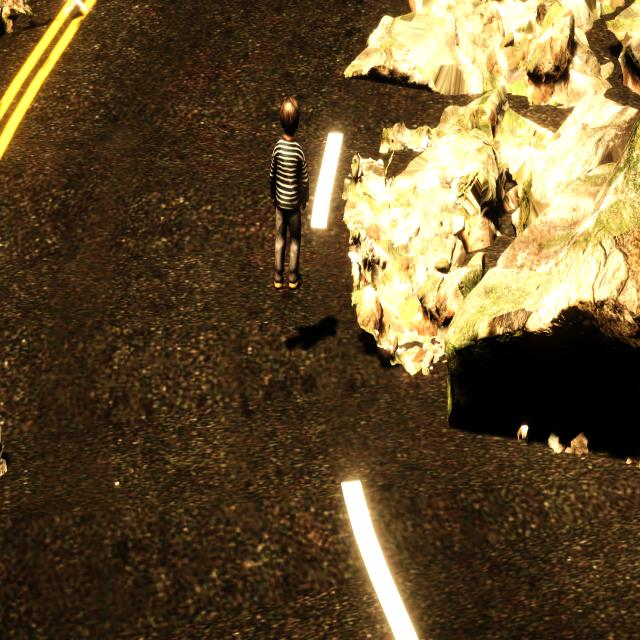Human: (262, 84, 315, 300)
